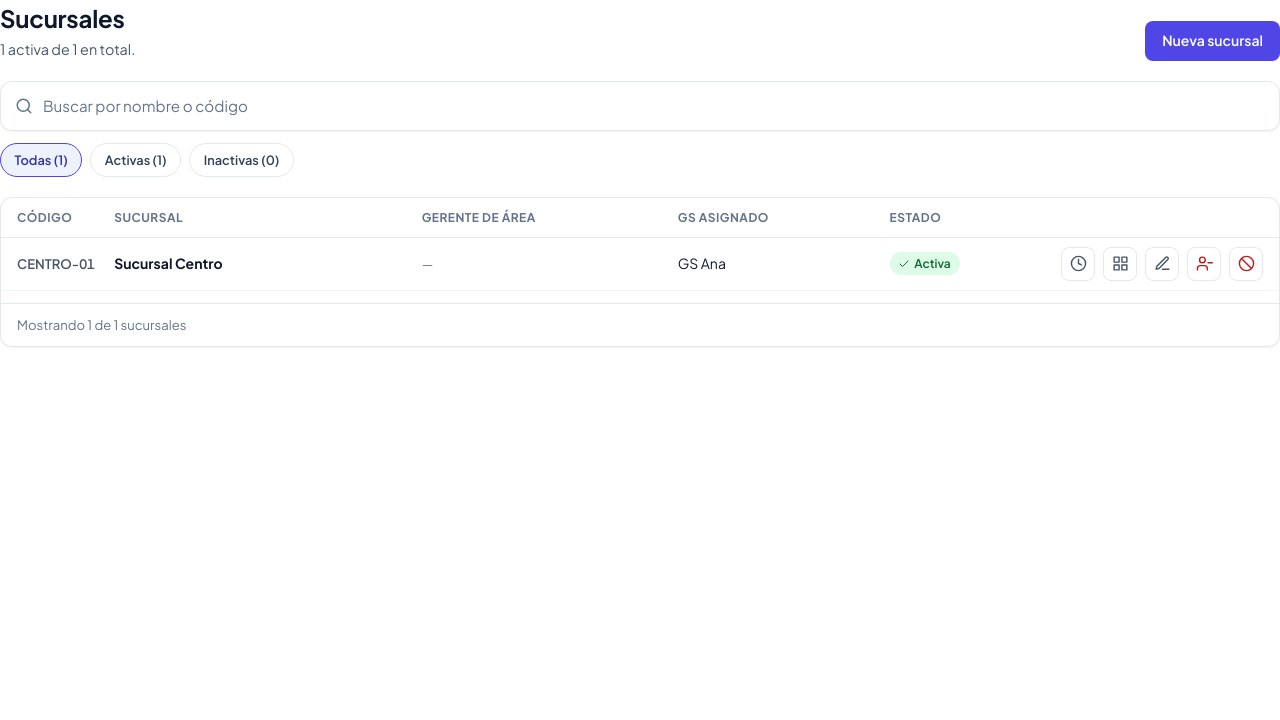
Scenario: SucursalesPage: número de guardias › conserva el modal y la lista ante retiro de GS denegado
expect the text "Sucursal Centro" is shown: met, box [114, 254, 223, 272]
Click the button titled "Quitar GS": click(1204, 264) [1187, 247, 1221, 281]
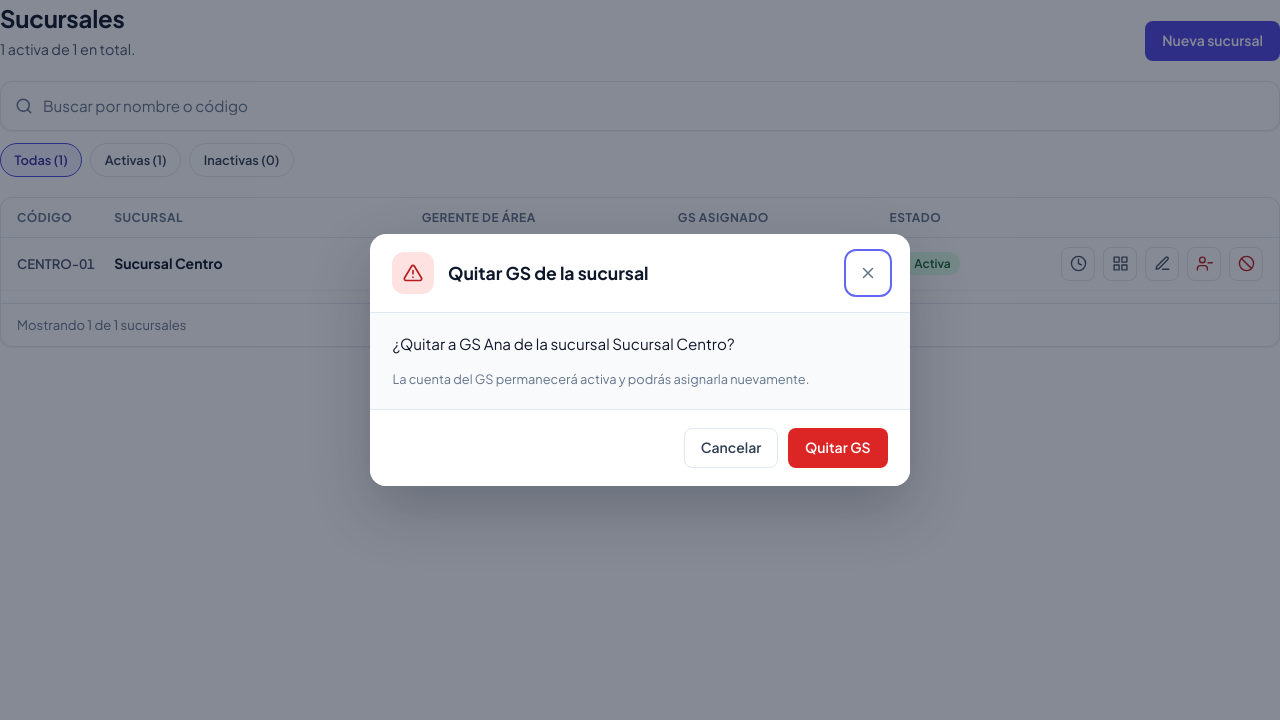
Click the button "Quitar GS": click(838, 448) [788, 428, 888, 468]
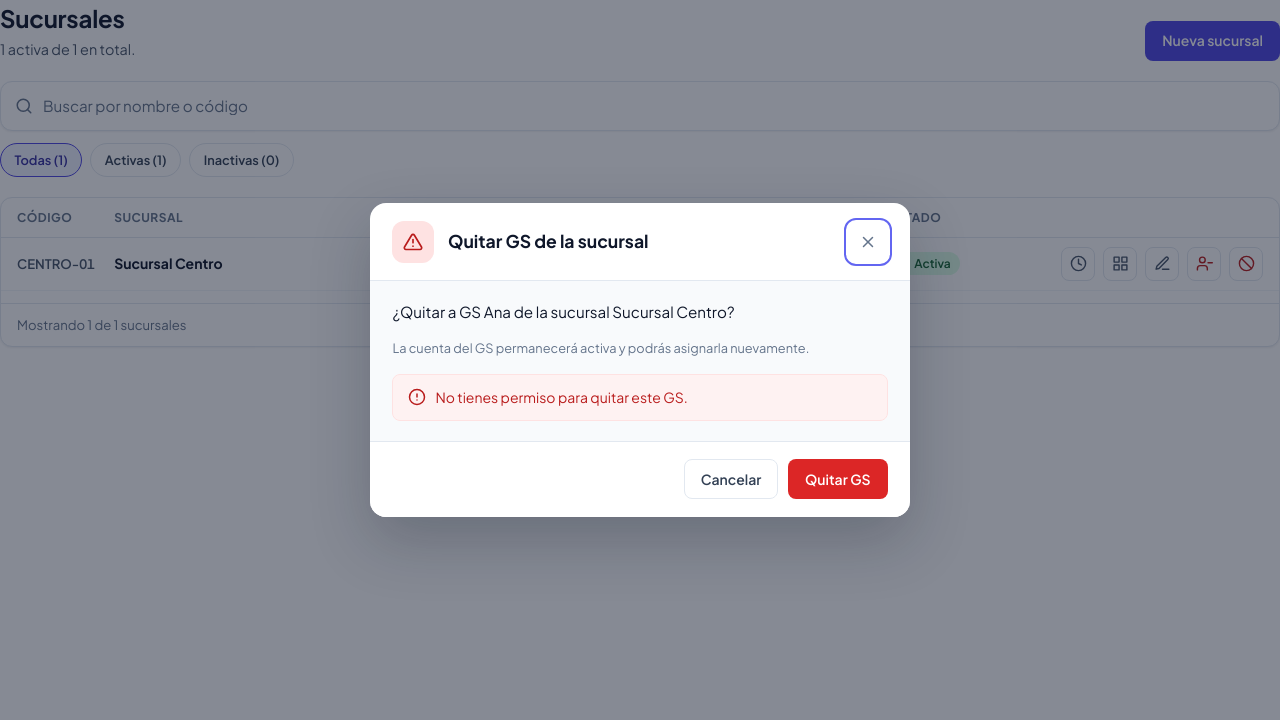
expect the cell "GS Ana" is shown: met, box [668, 238, 880, 290]
expect the text "No tienes permiso para quitar este GS." is shown: met, box [435, 387, 688, 408]
